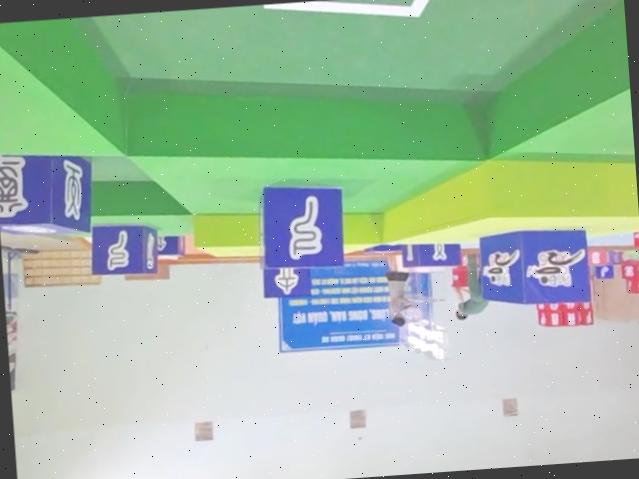R1 Blue: (478, 224, 591, 308)
R2 Fake Blue: (0, 143, 96, 240), (255, 178, 345, 271), (86, 219, 158, 278), (262, 261, 311, 298)
R2 Real Blue: (398, 238, 460, 269)
